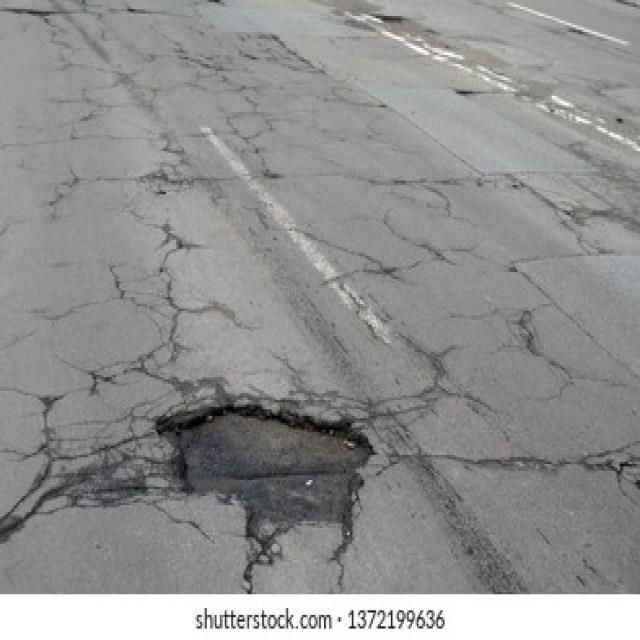Pothole: (158, 407, 375, 494)
